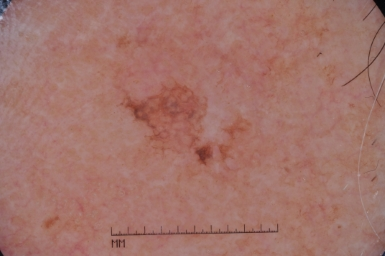seborrheic keratosis: (103, 55, 260, 189)
